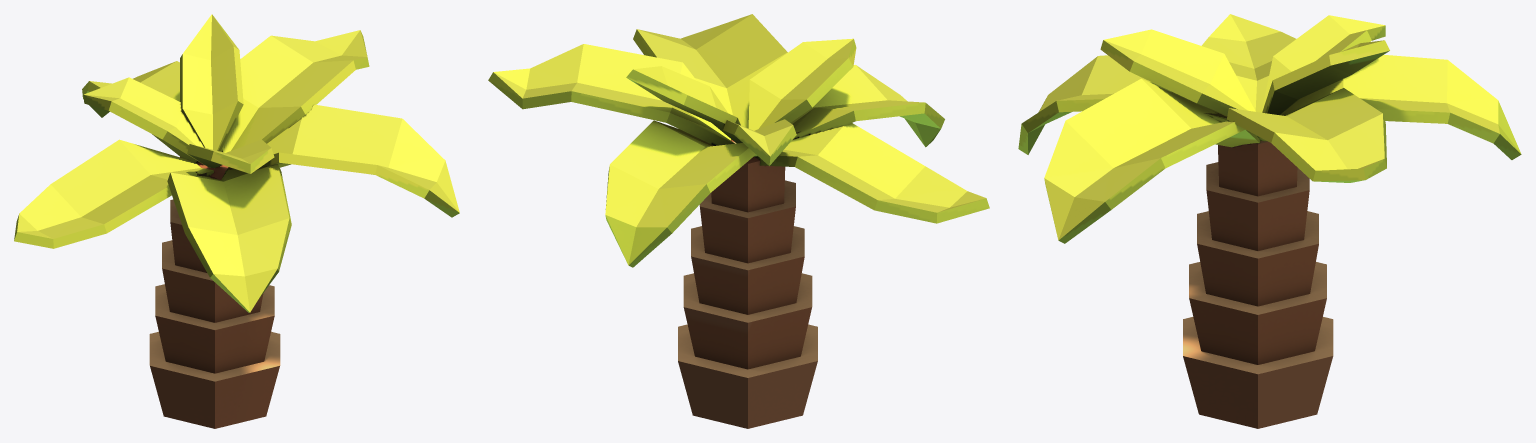
Rendered from PUSHILIN_palm_tree.obj.
3 renders of one model, left to right at view 1: azimuth 30°, elevation 25°; view 2: azimuth 150°, elevation 25°; view 3: azimuth 270°, elevation 25°, orthographic. The views are drawn at different scales.
Parts seen in each view (by area): view 1: palm_tree; view 2: palm_tree; view 3: palm_tree.
Boxes of the visible parts, box(x1,y1,x2,y2) form: palm_tree: box(14, 14, 459, 428); palm_tree: box(488, 14, 989, 428); palm_tree: box(1018, 14, 1521, 428).
Bounding box in the file's own units: 2.25 × 1.78 × 2.08.
Materials: 1 (1 with a texture image).
